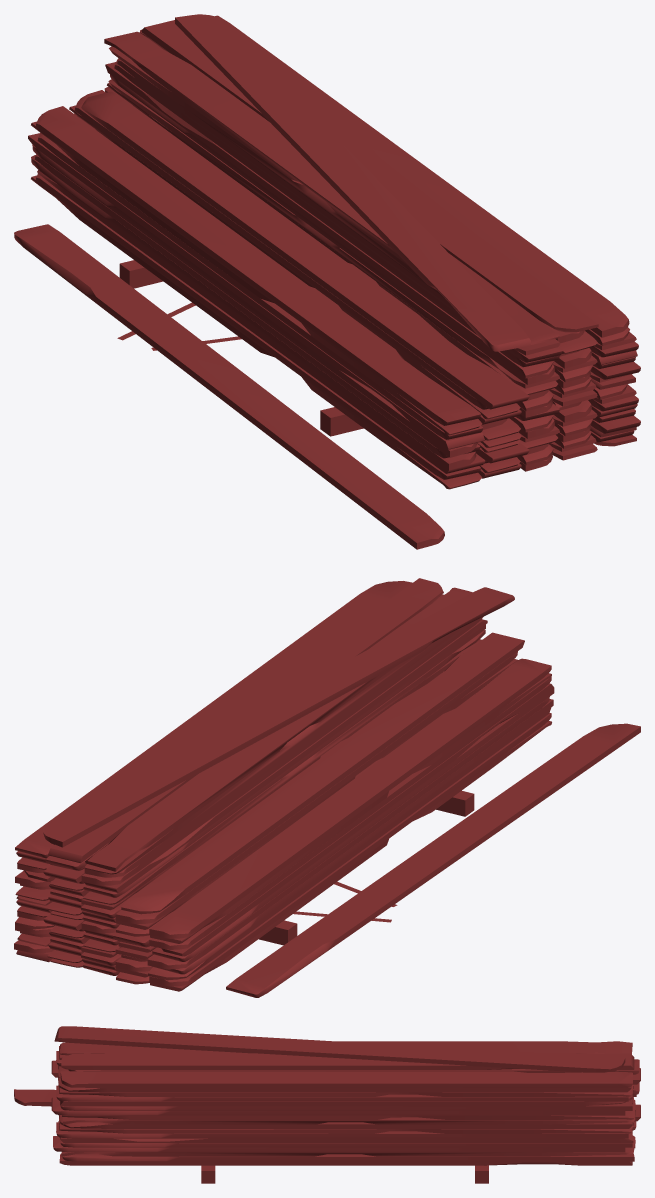
File: SM_WoodPlankPack05.fbx
The picture shows the model from 3 angles, top to bottom: view 1: azimuth 30°, elevation 25°; view 2: azimuth 150°, elevation 25°; view 3: azimuth 270°, elevation 25°; orthographic projection. The views are drawn at different scales.
Visible parts, largest first — view 1: WoodPlankPack05; view 2: WoodPlankPack05; view 3: WoodPlankPack05.
Part boxes in pixels (x1=…): WoodPlankPack05: x1=14, y1=14, x2=640, y2=549; WoodPlankPack05: x1=14, y1=578, x2=640, y2=997; WoodPlankPack05: x1=14, y1=1026, x2=640, y2=1183.
Size of the model in its own units: 114 by 60.44 by 328.
